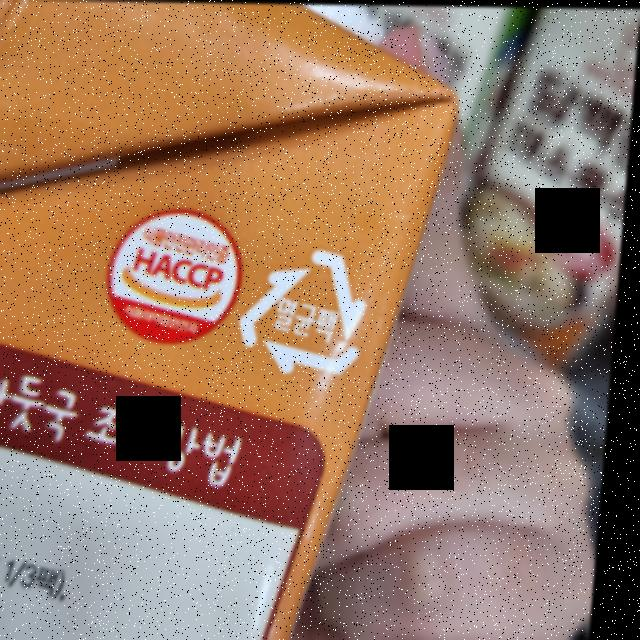SterilizedPack: (242, 244, 381, 378)
